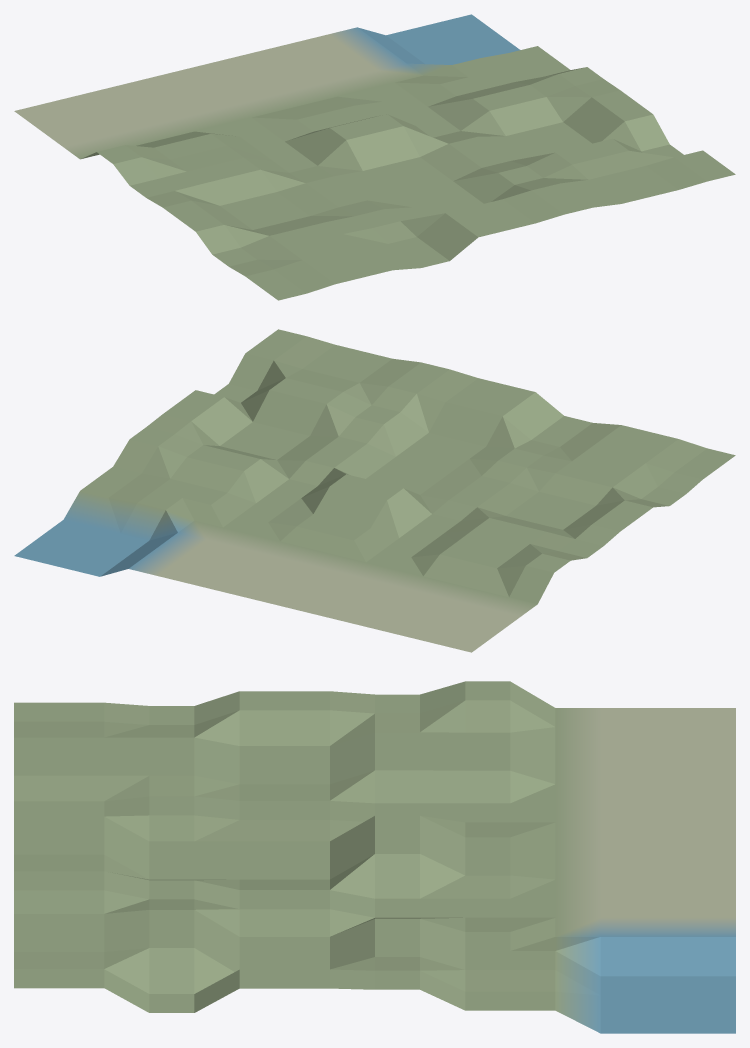
3 views of the same model, one above another, from view 1: azimuth 30°, elevation 25°; view 2: azimuth 150°, elevation 25°; view 3: azimuth 270°, elevation 25° (orthographic). The views are drawn at different scales.
Bounding box in the file's own units: 32 × 2.34 × 32.
